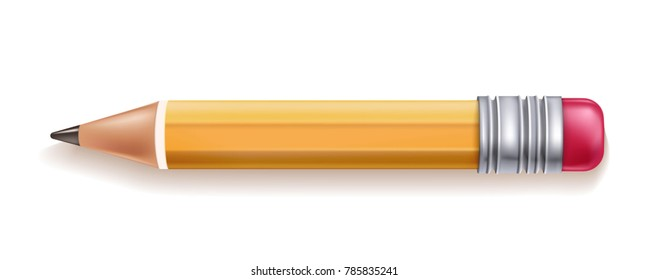pencil: (40, 77, 627, 184)
